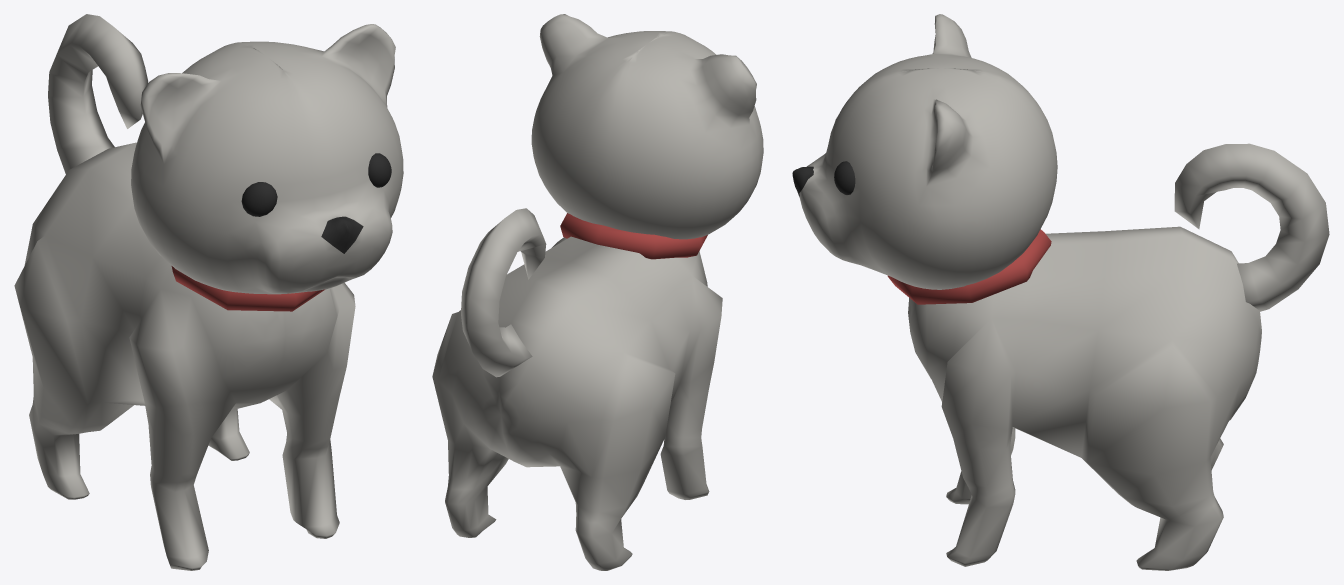
The model's file is inuneko.obj.
The picture shows the model from 3 angles, left to right: view 1: azimuth 30°, elevation 25°; view 2: azimuth 150°, elevation 25°; view 3: azimuth 270°, elevation 25°; orthographic projection. The views are drawn at different scales.
Parts seen in each view (by area): view 1: Sphere.001_Sphere.003, Sphere, BezierCurve_CUBezierCurve.001, Torus, Sphere.002_Sphere.006; view 2: Sphere.001_Sphere.003, Sphere, BezierCurve_CUBezierCurve.001, Torus; view 3: Sphere.001_Sphere.003, Sphere, BezierCurve_CUBezierCurve.001, Torus.
Part boxes in pixels (bbox=[...]): Sphere.001_Sphere.003: bbox=[14, 142, 355, 570]; Sphere: bbox=[131, 24, 403, 294]; BezierCurve_CUBezierCurve.001: bbox=[48, 14, 148, 173]; Torus: bbox=[171, 266, 325, 311]; Sphere.002_Sphere.006: bbox=[241, 153, 391, 216]; Sphere.001_Sphere.003: bbox=[432, 236, 722, 570]; Sphere: bbox=[531, 14, 763, 239]; BezierCurve_CUBezierCurve.001: bbox=[461, 208, 546, 377]; Torus: bbox=[560, 213, 707, 259]; Sphere.001_Sphere.003: bbox=[908, 226, 1261, 570]; Sphere: bbox=[792, 14, 1057, 289]; BezierCurve_CUBezierCurve.001: bbox=[1174, 143, 1329, 311]; Torus: bbox=[887, 229, 1051, 304].
Bounding box in the file's own units: 0.5923 × 1.14 × 1.18.
